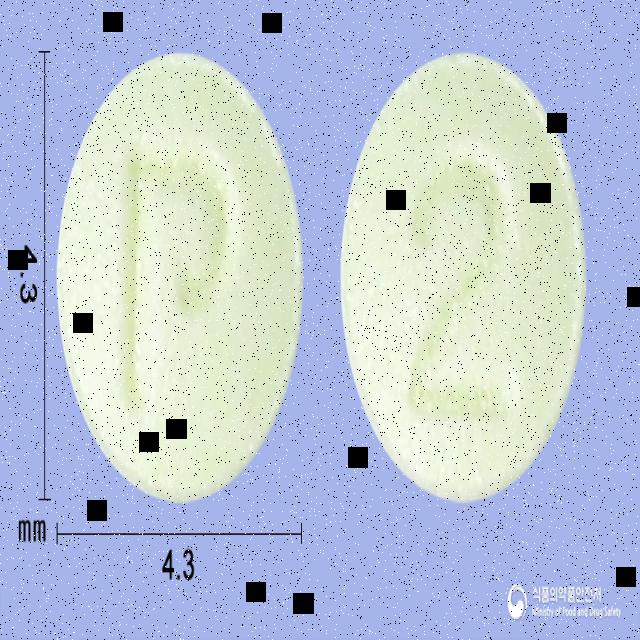Azabio - 25mg: (53, 48, 309, 510), (337, 50, 590, 513)
